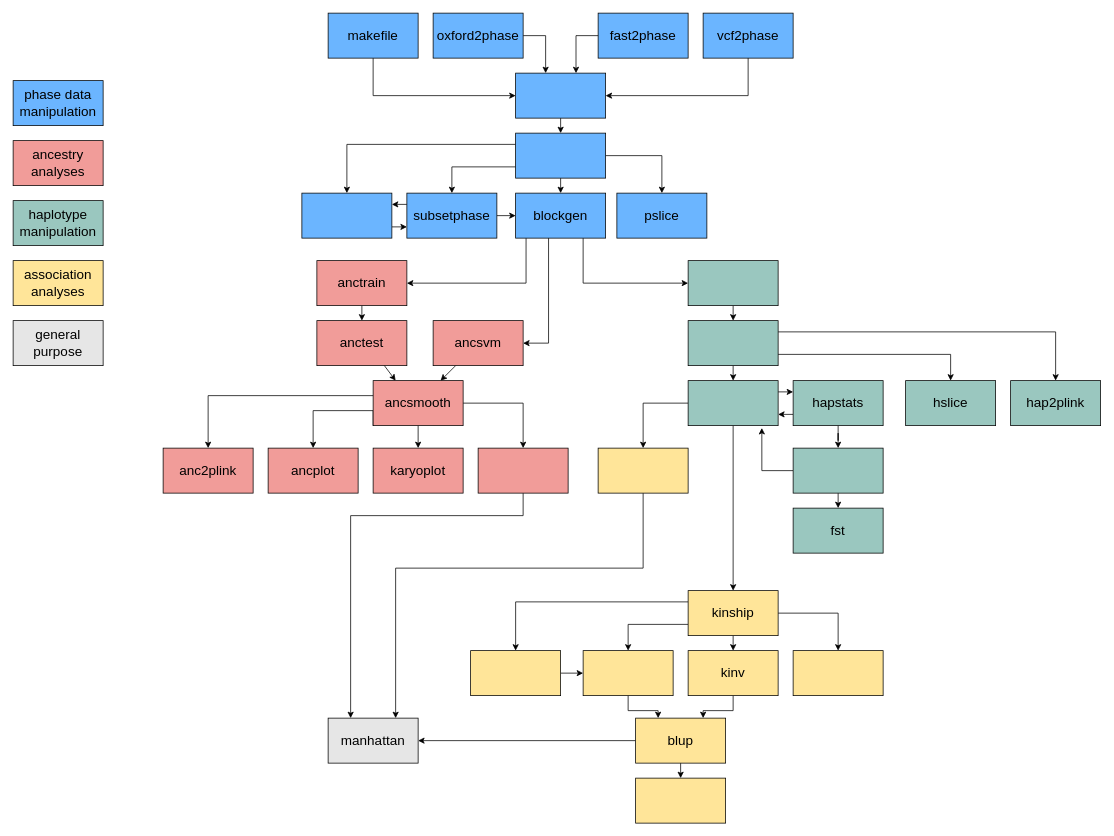
This 1114x836 diagram has some shape labels left out. Each missing label, with the centre of its shape:
ancmark: [522,470]
assoc: [642,470]
blockstats: [837,470]
compress: [560,95]
freq: [346,215]
haplotyping: [732,283]
lmm: [627,673]
loadhaplo: [732,343]
loadphase: [560,155]
pca: [837,673]
profile: [680,800]
simpheno: [515,673]
subsethaplo: [732,403]
